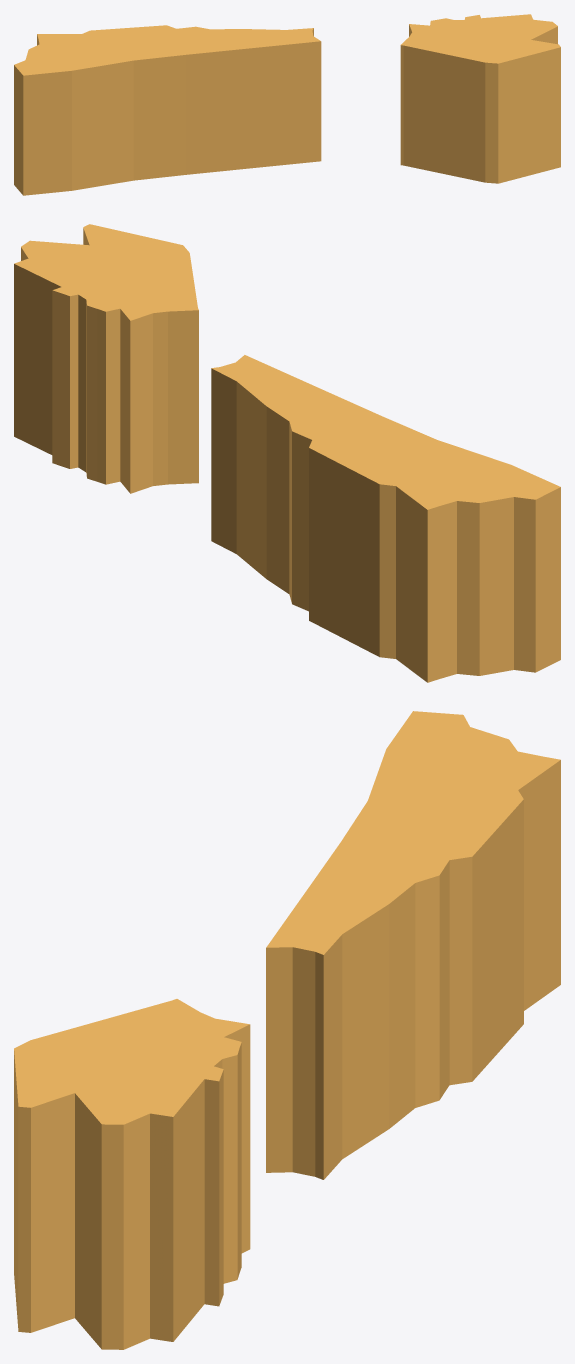
The model's file is middle_town.glb.
The picture shows the model from 3 angles, top to bottom: view 1: azimuth 30°, elevation 25°; view 2: azimuth 150°, elevation 25°; view 3: azimuth 270°, elevation 25°; orthographic projection. The views are drawn at different scales.
Visible parts, largest first — view 1: Plane.076; view 2: Plane.076; view 3: Plane.076.
Boxes of the visible parts, x1,y1,x2,y2 form: Plane.076: (14,14,560,195); Plane.076: (14,224,560,682); Plane.076: (14,711,560,1349).
Size of the model in its own units: 1.52 by 0.3856 by 0.8491.
